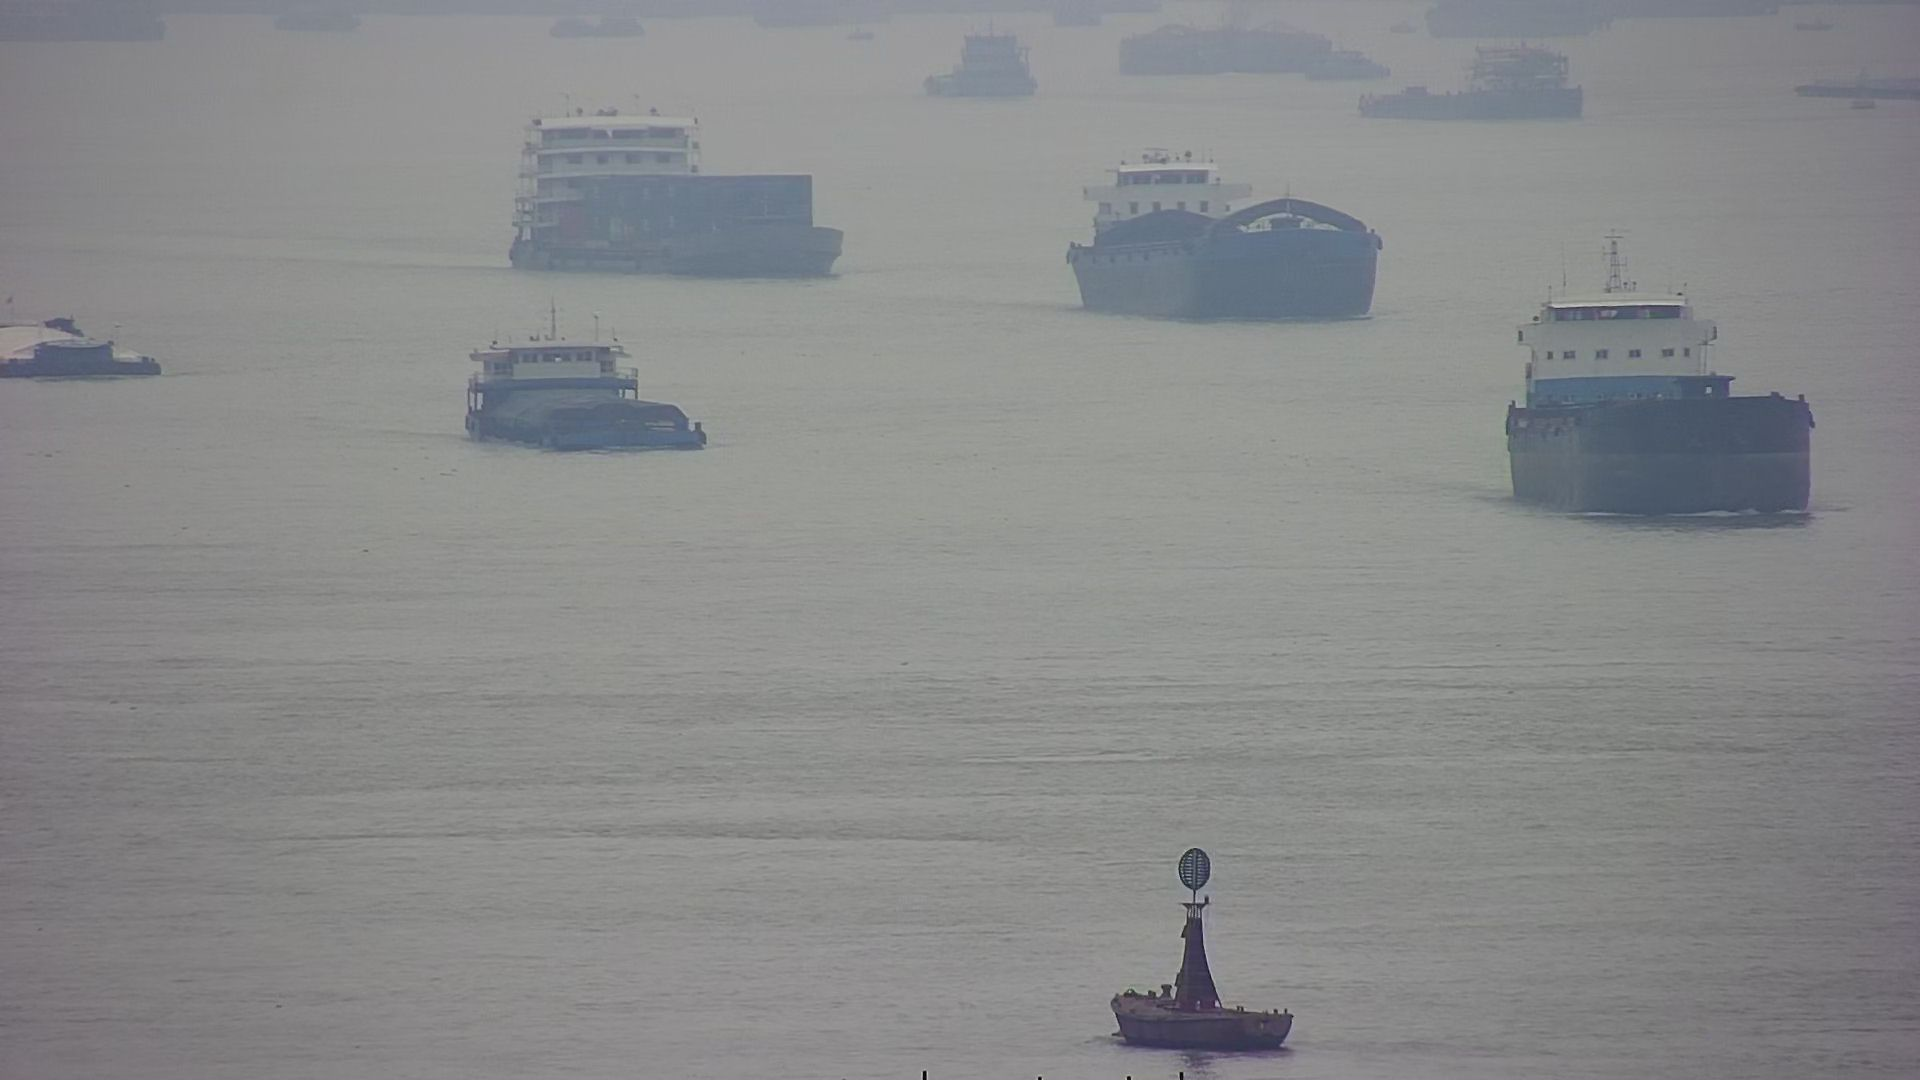boat: (1116, 844, 1290, 1054)
ship: (1501, 240, 1818, 524), (506, 102, 841, 282), (1059, 150, 1382, 316), (460, 306, 703, 458), (1, 291, 167, 390)
